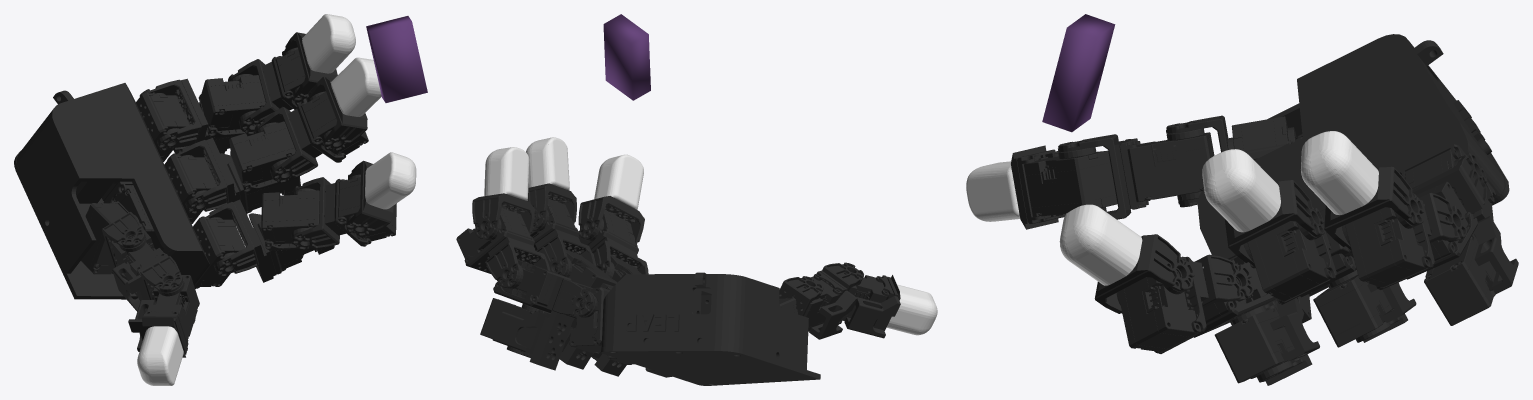
File: prediction.glb
3 renders of one model, left to right at view 1: azimuth 30°, elevation 25°; view 2: azimuth 150°, elevation 25°; view 3: azimuth 270°, elevation 25°, orthographic. The views are drawn at different scales.
Visible parts, largest first — view 1: HAND__012__meshes__visual__palm_lower.glb__black_metal, HAND__001__meshes__visual__dip.glb_1__black_metal, OBJECT__00__recorded_box, HAND__000__meshes__visual__dip.glb__black_metal, HAND__009__meshes__visual__mcp_joint.glb__black_metal, HAND__017__meshes__visual__thumb_dip.glb__black_metal, HAND__010__meshes__visual__mcp_joint.glb_1__black_metal, HAND__014__meshes__visual__pip.glb_1__black_metal, HAND__015__meshes__visual__pip.glb_2__black_metal, HAND__013__meshes__visual__pip.glb__black_metal, HAND__002__meshes__visual__dip.glb_2__black_metal, HAND__019__meshes__visual__thumb_fingertip.glb_1__black_meta (+10 smaller); view 2: HAND__012__meshes__visual__palm_lower.glb__black_metal, HAND__011__meshes__visual__mcp_joint.glb_2__black_metal, HAND__002__meshes__visual__dip.glb_2__black_metal, OBJECT__00__recorded_box, HAND__017__meshes__visual__thumb_dip.glb__black_metal, HAND__019__meshes__visual__thumb_fingertip.glb_1__black_meta, HAND__001__meshes__visual__dip.glb_1__black_metal, HAND__000__meshes__visual__dip.glb__black_metal, HAND__007__meshes__visual__fingertip.glb_4__White_tip, HAND__003__meshes__visual__fingertip.glb__White_tip, HAND__005__meshes__visual__fingertip.glb_2__White_tip, HAND__015__meshes__visual__pip.glb_2__black_metal (+9 smaller); view 3: HAND__012__meshes__visual__palm_lower.glb__black_metal, HAND__011__meshes__visual__mcp_joint.glb_2__black_metal, HAND__000__meshes__visual__dip.glb__black_metal, HAND__017__meshes__visual__thumb_dip.glb__black_metal, HAND__002__meshes__visual__dip.glb_2__black_metal, HAND__019__meshes__visual__thumb_fingertip.glb_1__black_meta, HAND__009__meshes__visual__mcp_joint.glb__black_metal, HAND__001__meshes__visual__dip.glb_1__black_metal, OBJECT__00__recorded_box, HAND__010__meshes__visual__mcp_joint.glb_1__black_metal, HAND__007__meshes__visual__fingertip.glb_4__White_tip, HAND__003__meshes__visual__fingertip.glb__White_tip (+10 smaller).
Part boxes in pixels (box(x1,y1,x2,y2)): HAND__012__meshes__visual__palm_lower.glb__black_metal: box(14, 83, 245, 299); HAND__001__meshes__visual__dip.glb_1__black_metal: box(254, 91, 368, 182); OBJECT__00__recorded_box: box(366, 16, 427, 102); HAND__000__meshes__visual__dip.glb__black_metal: box(291, 174, 396, 249); HAND__009__meshes__visual__mcp_joint.glb__black_metal: box(205, 199, 334, 282); HAND__017__meshes__visual__thumb_dip.glb__black_metal: box(111, 227, 195, 323); HAND__010__meshes__visual__mcp_joint.glb_1__black_metal: box(167, 138, 300, 214); HAND__014__meshes__visual__pip.glb_1__black_metal: box(229, 121, 298, 192); HAND__015__meshes__visual__pip.glb_2__black_metal: box(198, 74, 265, 137); HAND__013__meshes__visual__pip.glb__black_metal: box(261, 188, 320, 250); HAND__002__meshes__visual__dip.glb_2__black_metal: box(228, 47, 306, 134); HAND__019__meshes__visual__thumb_fingertip.glb_1__black_meta: box(128, 275, 199, 357); HAND__012__meshes__visual__palm_lower.glb__black_metal: box(569, 272, 820, 385); HAND__011__meshes__visual__mcp_joint.glb_2__black_metal: box(480, 276, 594, 370); HAND__002__meshes__visual__dip.glb_2__black_metal: box(456, 208, 550, 288); OBJECT__00__recorded_box: box(603, 14, 650, 100); HAND__017__meshes__visual__thumb_dip.glb__black_metal: box(785, 262, 863, 339); HAND__019__meshes__visual__thumb_fingertip.glb_1__black_meta: box(839, 275, 900, 338); HAND__001__meshes__visual__dip.glb_1__black_metal: box(530, 199, 595, 276); HAND__000__meshes__visual__dip.glb__black_metal: box(578, 210, 648, 275); HAND__007__meshes__visual__fingertip.glb_4__White_tip: box(484, 147, 529, 200); HAND__003__meshes__visual__fingertip.glb__White_tip: box(594, 154, 643, 209); HAND__005__meshes__visual__fingertip.glb_2__White_tip: box(526, 137, 569, 190); HAND__015__meshes__visual__pip.glb_2__black_metal: box(493, 259, 571, 312); HAND__012__meshes__visual__palm_lower.glb__black_metal: box(1197, 34, 1509, 323); HAND__011__meshes__visual__mcp_joint.glb_2__black_metal: box(1412, 153, 1518, 325); HAND__000__meshes__visual__dip.glb__black_metal: box(1116, 254, 1254, 353); HAND__017__meshes__visual__thumb_dip.glb__black_metal: box(1058, 128, 1214, 219); HAND__002__meshes__visual__dip.glb_2__black_metal: box(1342, 192, 1466, 289); HAND__019__meshes__visual__thumb_fingertip.glb_1__black_meta: box(1011, 145, 1117, 229); HAND__009__meshes__visual__mcp_joint.glb__black_metal: box(1214, 297, 1319, 385); HAND__001__meshes__visual__dip.glb_1__black_metal: box(1243, 208, 1352, 304); OBJECT__00__recorded_box: box(1042, 14, 1115, 132); HAND__010__meshes__visual__mcp_joint.glb_1__black_metal: box(1313, 270, 1416, 347); HAND__007__meshes__visual__fingertip.glb_4__White_tip: box(1301, 131, 1378, 214); HAND__003__meshes__visual__fingertip.glb__White_tip: box(1059, 204, 1142, 285).
Size of the model in its own units: 0.226 by 0.189 by 0.2337.
